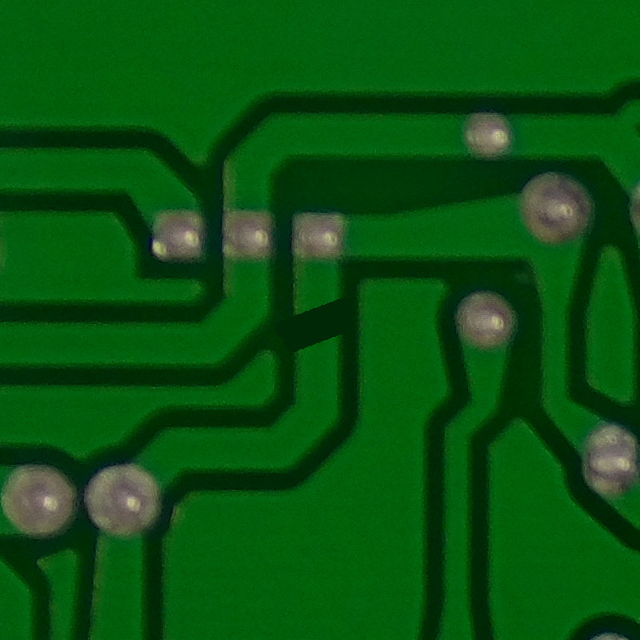open_circuit: (282, 279, 359, 361)
